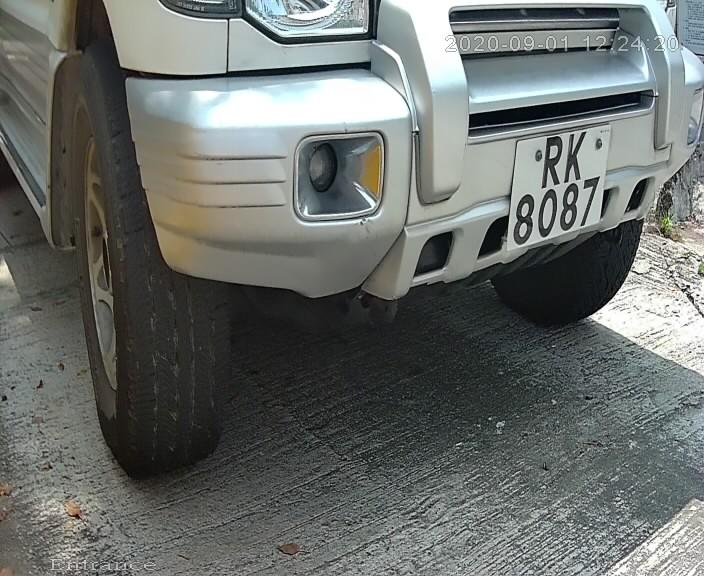License Plate: (497, 111, 623, 263)
